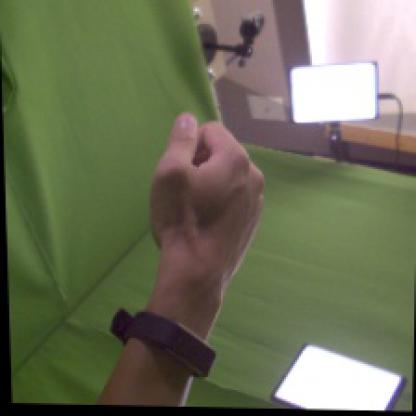Hand: (147, 112, 266, 276)
